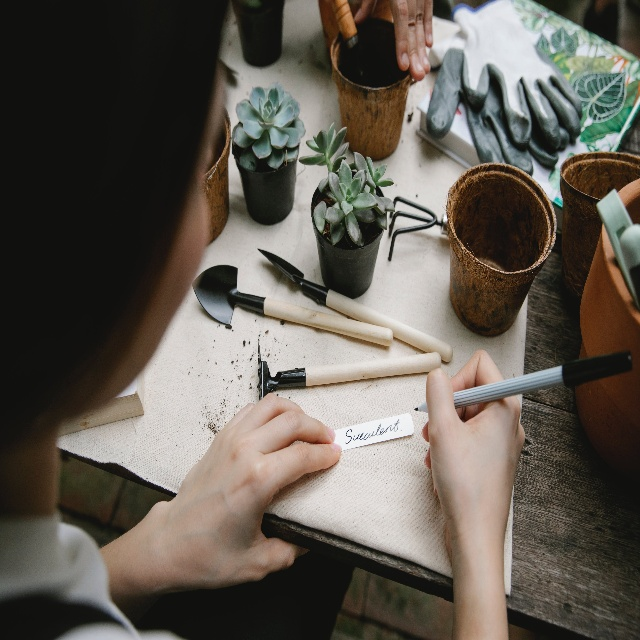Guantes: (452, 0, 583, 149), (425, 35, 558, 175)
Sin_guantes: (172, 393, 342, 596), (421, 349, 527, 576), (354, 0, 434, 79)
